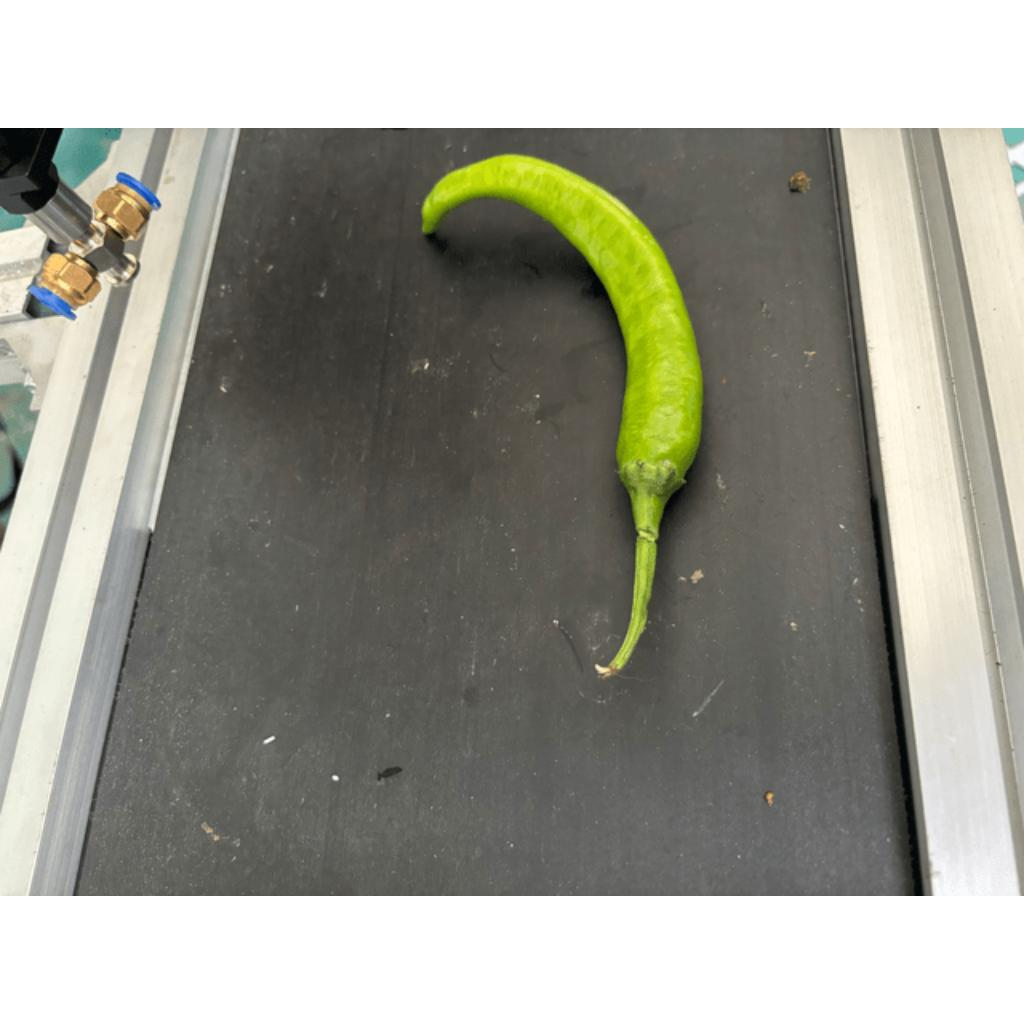chili: (420, 155, 706, 502)
